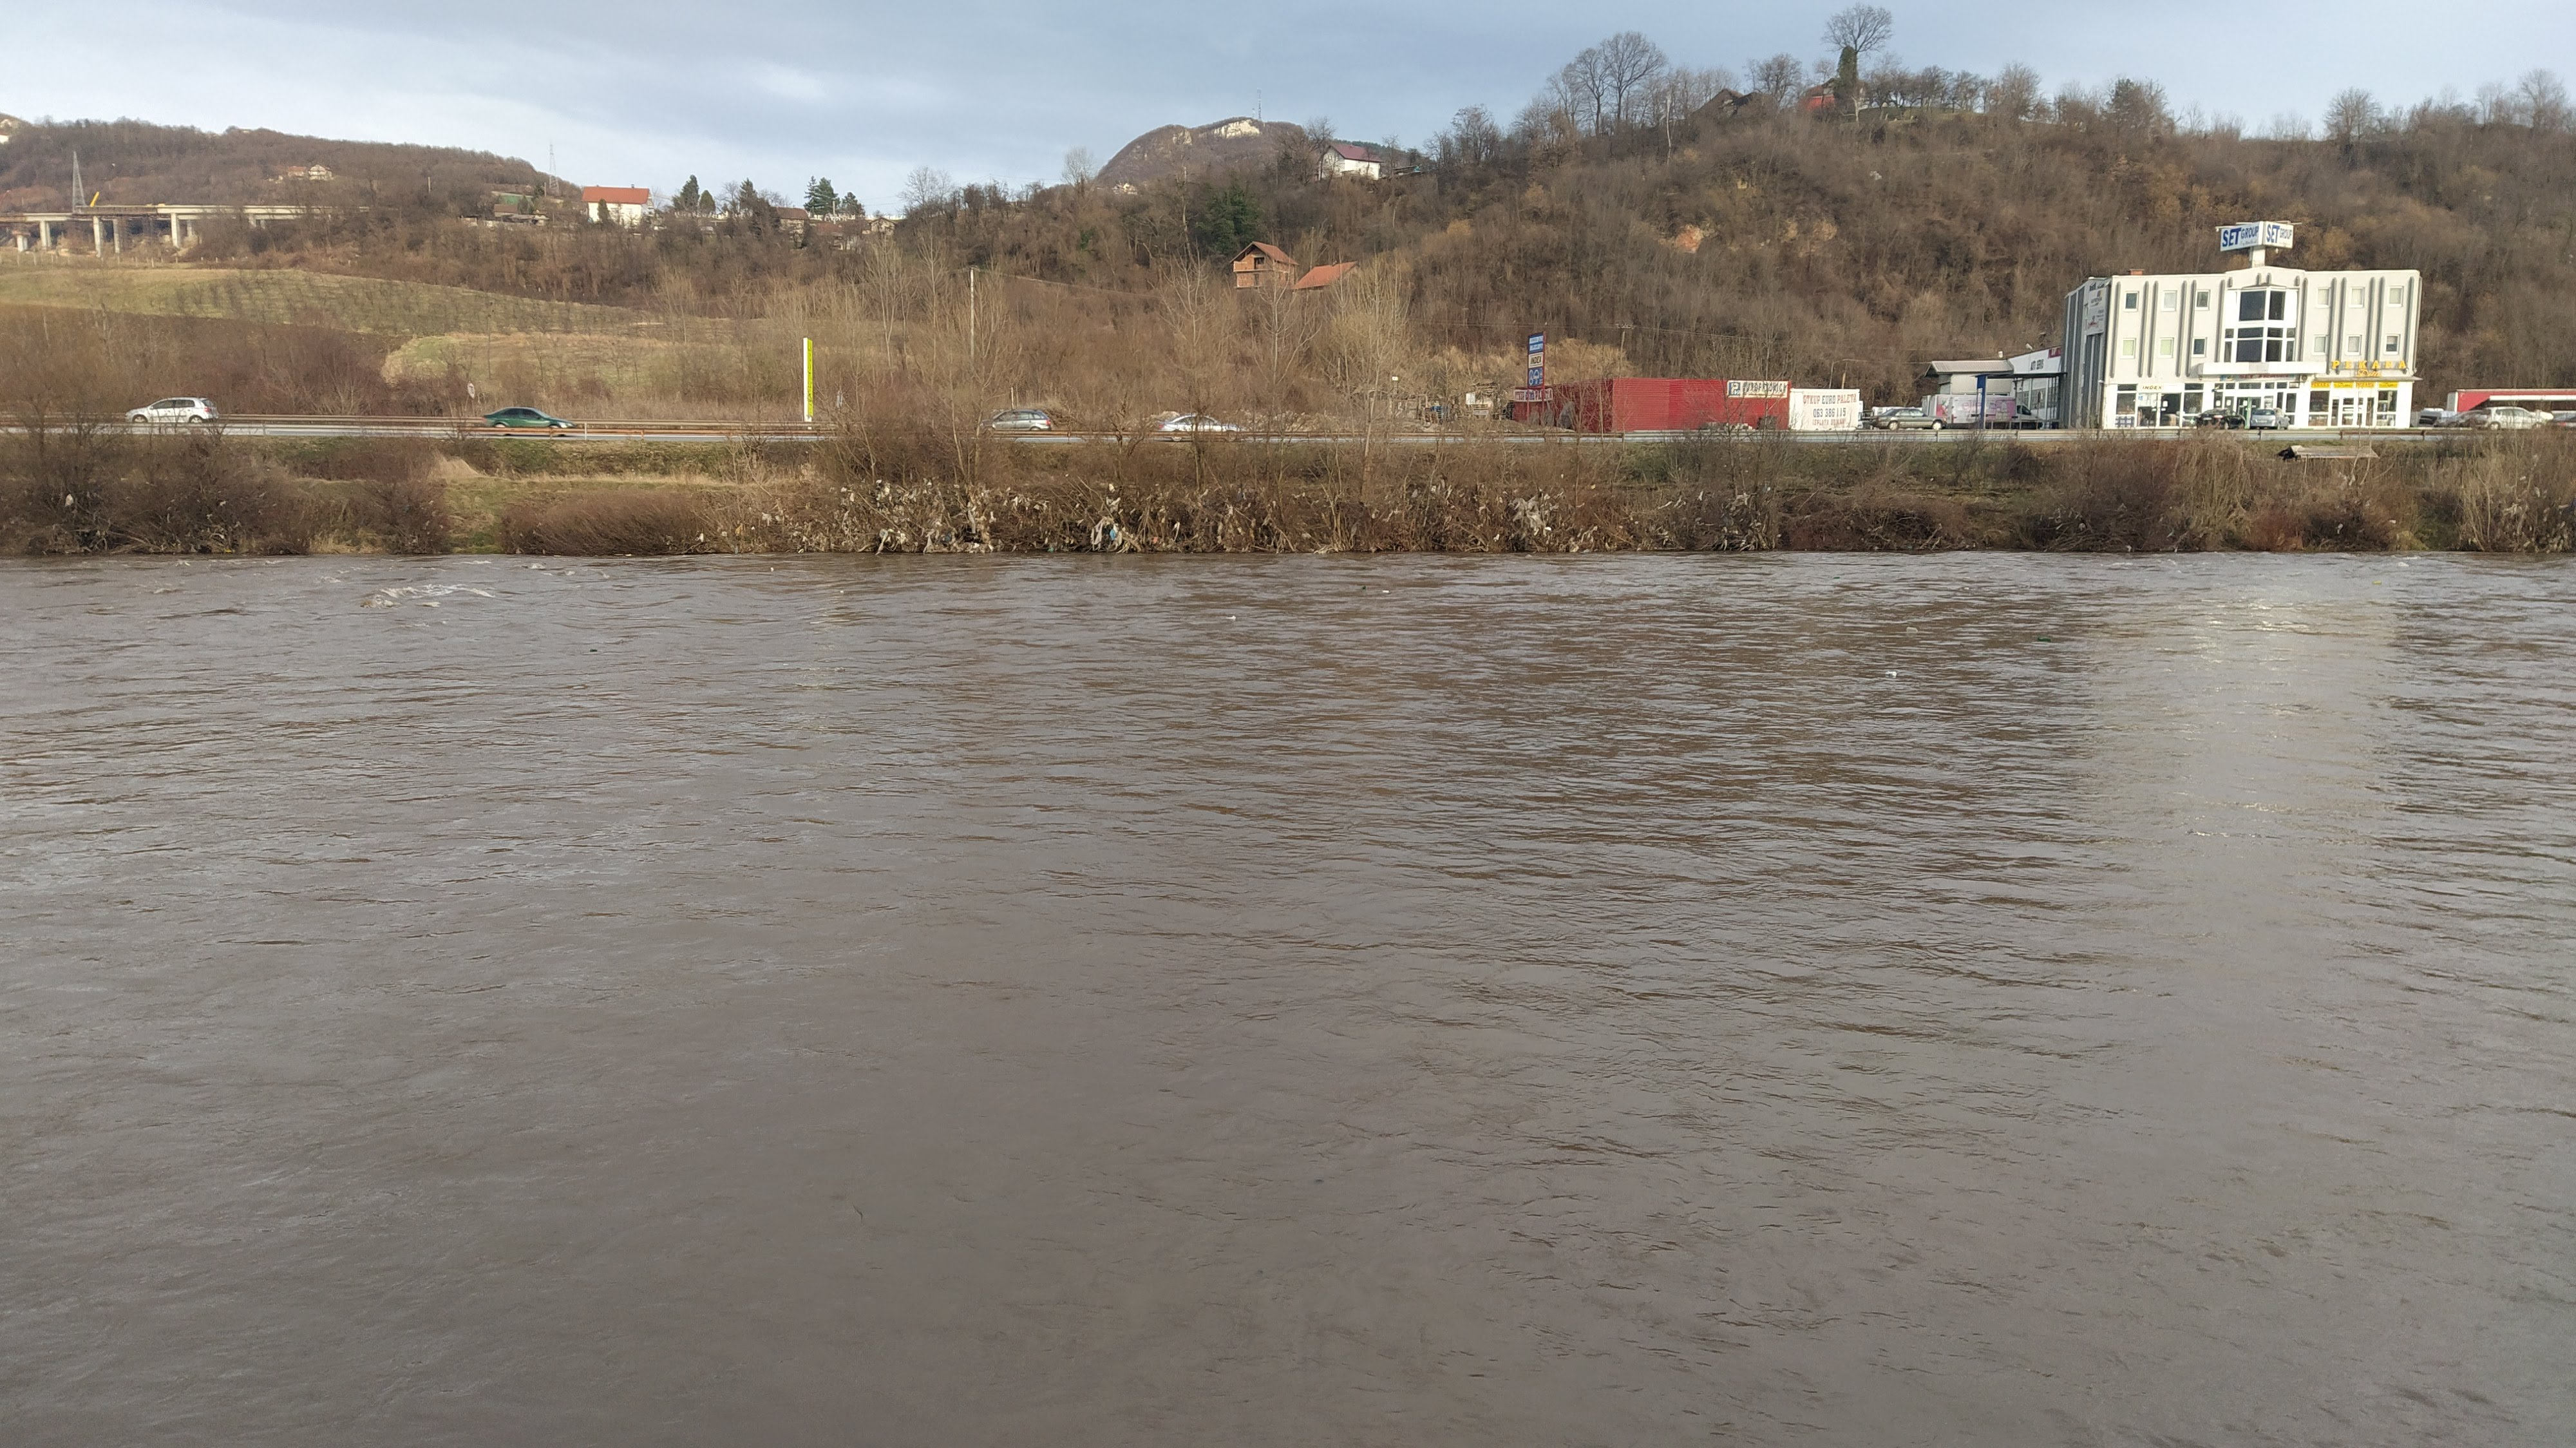Plastic Bottle: (2036, 635, 2051, 641), (1905, 627, 1916, 632), (1886, 671, 1897, 676), (1226, 616, 1235, 620), (2373, 581, 2381, 584), (589, 648, 596, 651), (1384, 589, 1389, 593), (1833, 575, 1838, 577), (1362, 584, 1364, 588)
